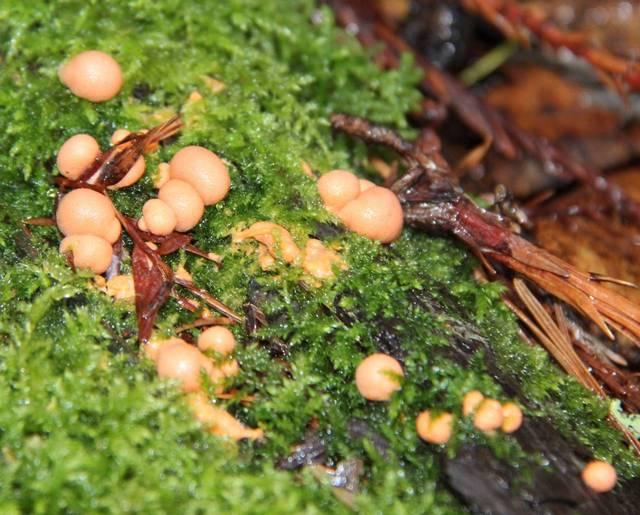Non-edible Mushroom: (139, 143, 231, 236), (337, 184, 404, 243), (54, 186, 122, 244), (167, 144, 231, 205), (57, 48, 123, 102), (157, 177, 204, 232), (354, 352, 404, 401), (58, 233, 113, 274), (55, 132, 101, 181), (315, 168, 360, 212), (138, 197, 176, 236)
